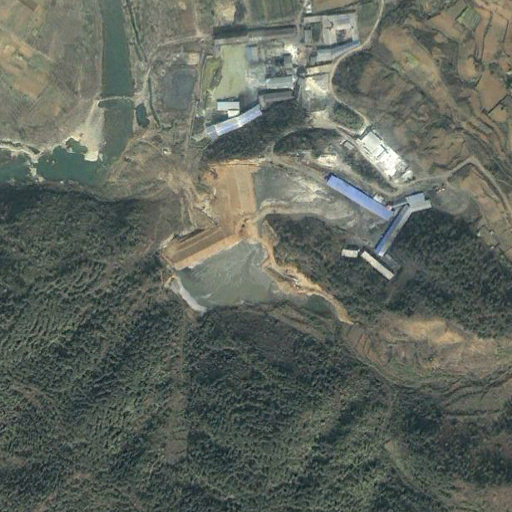tp: (158, 229, 342, 323), (201, 162, 363, 224)
